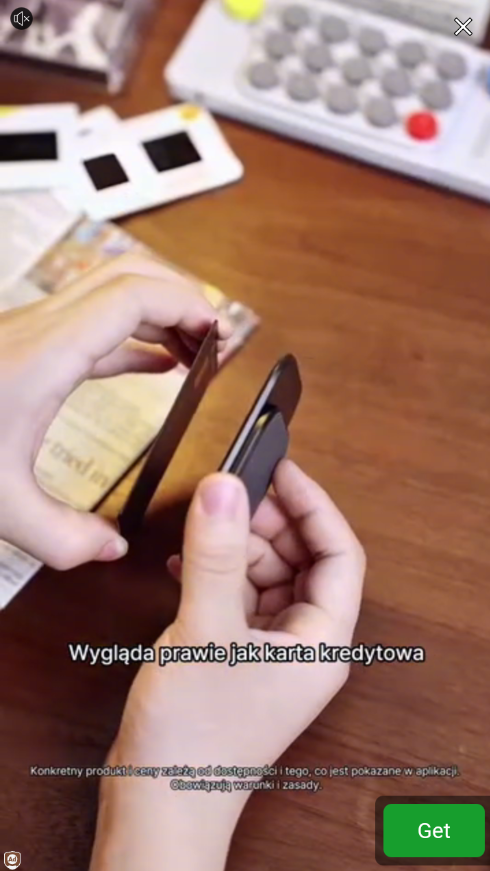close_button: (450, 10, 477, 44)
